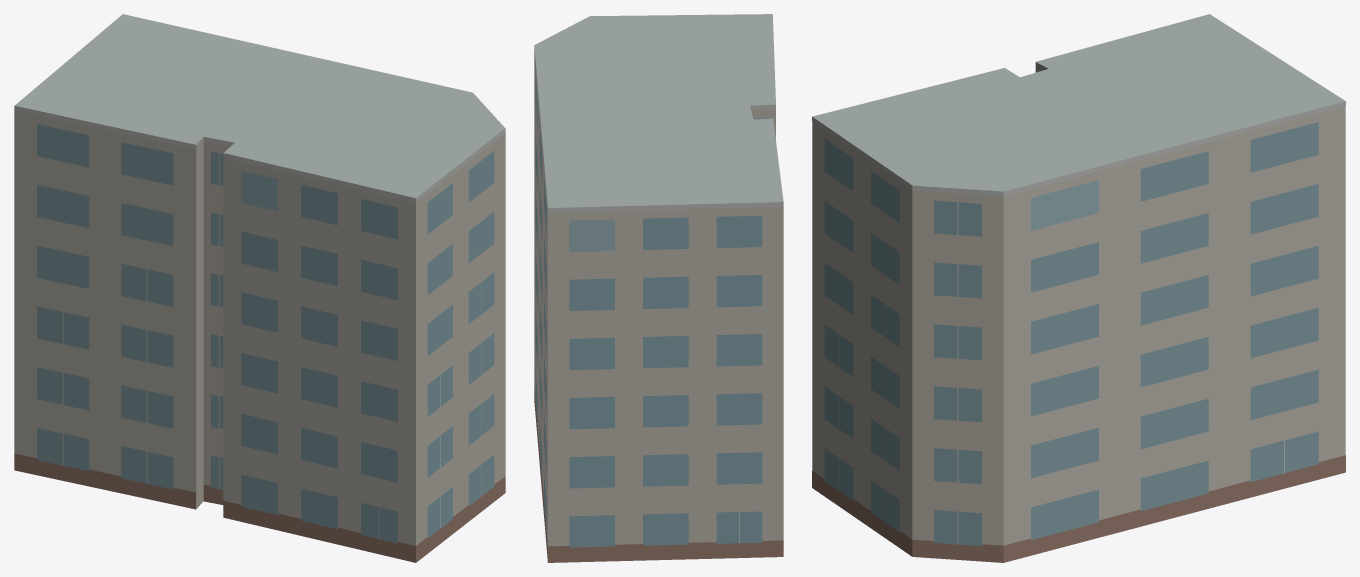
Rendered from survey-upis-33016180.glb.
3 views of the same model, side by side, from view 1: azimuth 30°, elevation 25°; view 2: azimuth 150°, elevation 25°; view 3: azimuth 270°, elevation 25° (orthographic). The views are drawn at different scales.
Parts seen in each view (by area): view 1: survey-upis-33016180.tmp; view 2: survey-upis-33016180.tmp; view 3: survey-upis-33016180.tmp.
Part boxes in pixels (x1=…): survey-upis-33016180.tmp: x1=14, y1=14, x2=505, y2=562; survey-upis-33016180.tmp: x1=534, y1=14, x2=783, y2=562; survey-upis-33016180.tmp: x1=812, y1=14, x2=1345, y2=562.
Bounding box in the file's own units: 19.08 × 18.6 × 24.23.
